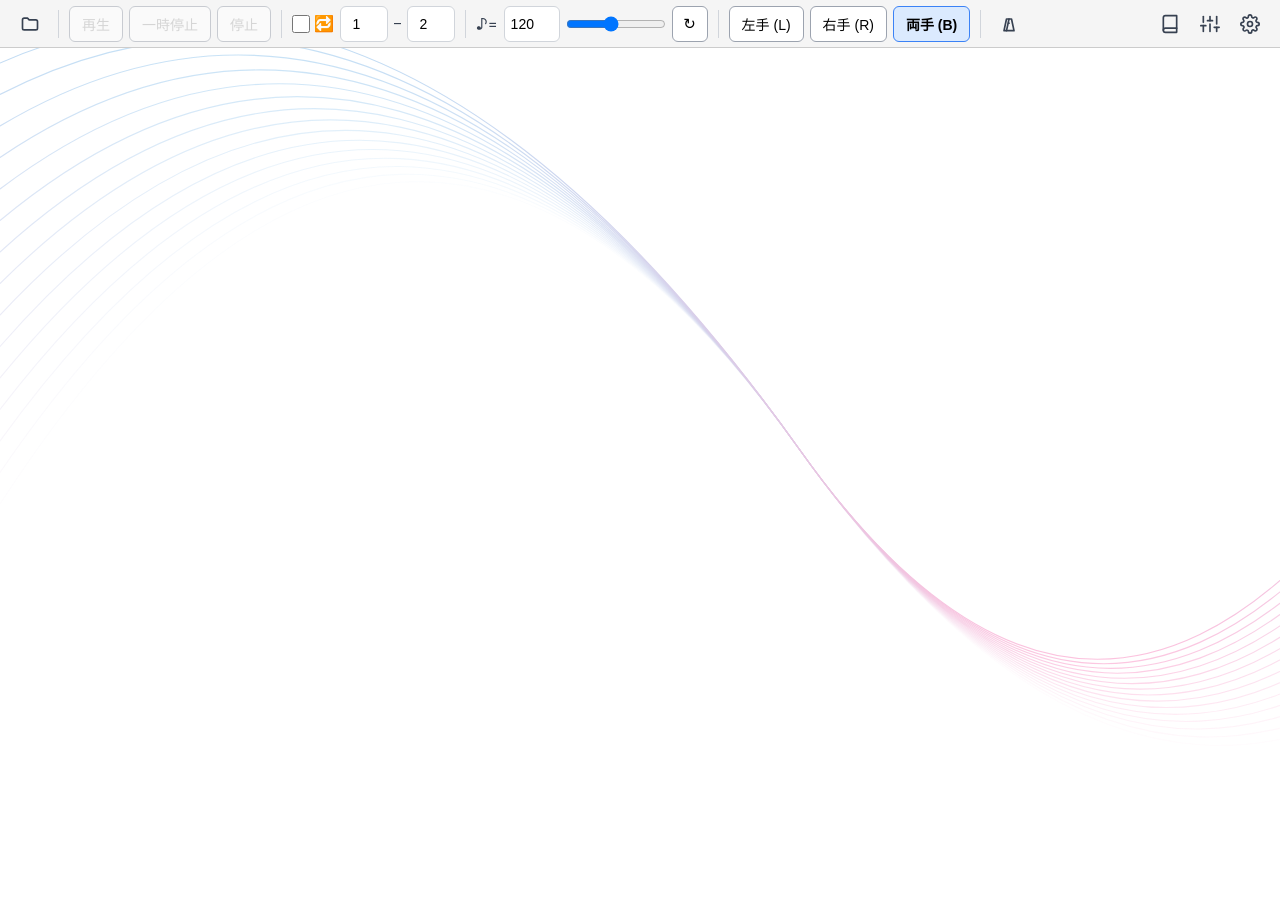
Header › QuickPanel (REQ-012-002/003) › closes the QuickPanel when the toggle button is clicked again
The image size is (1280, 900).
Step 1. Click the button with test id "quick-panel-toggle" → click(1210, 24), box [1192,6,1228,42]
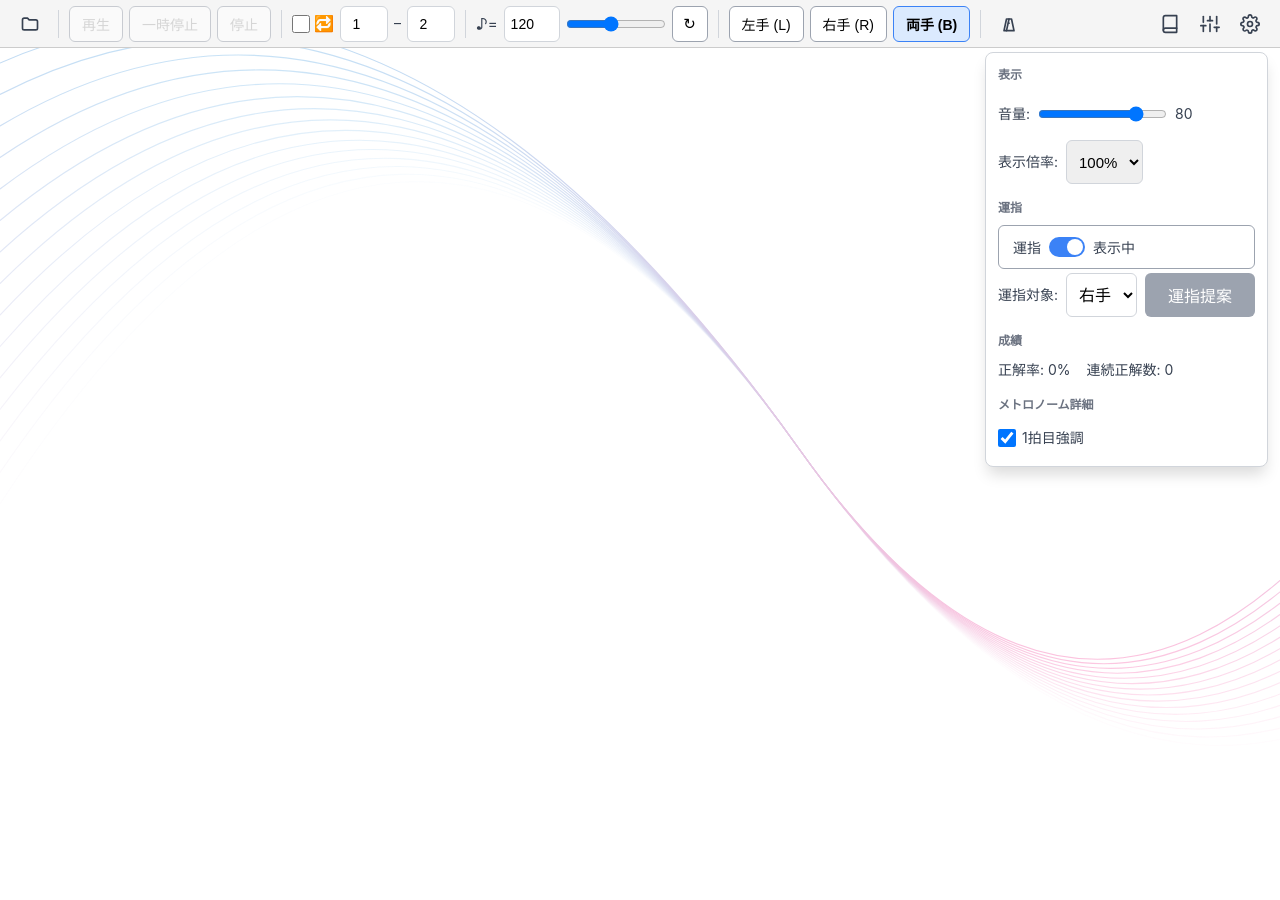
Check: the element with test id "quick-panel" is shown, box [998,65,1255,454]
Step 2. Click the button with test id "quick-panel-toggle" → click(1210, 24), box [1192,6,1228,42]
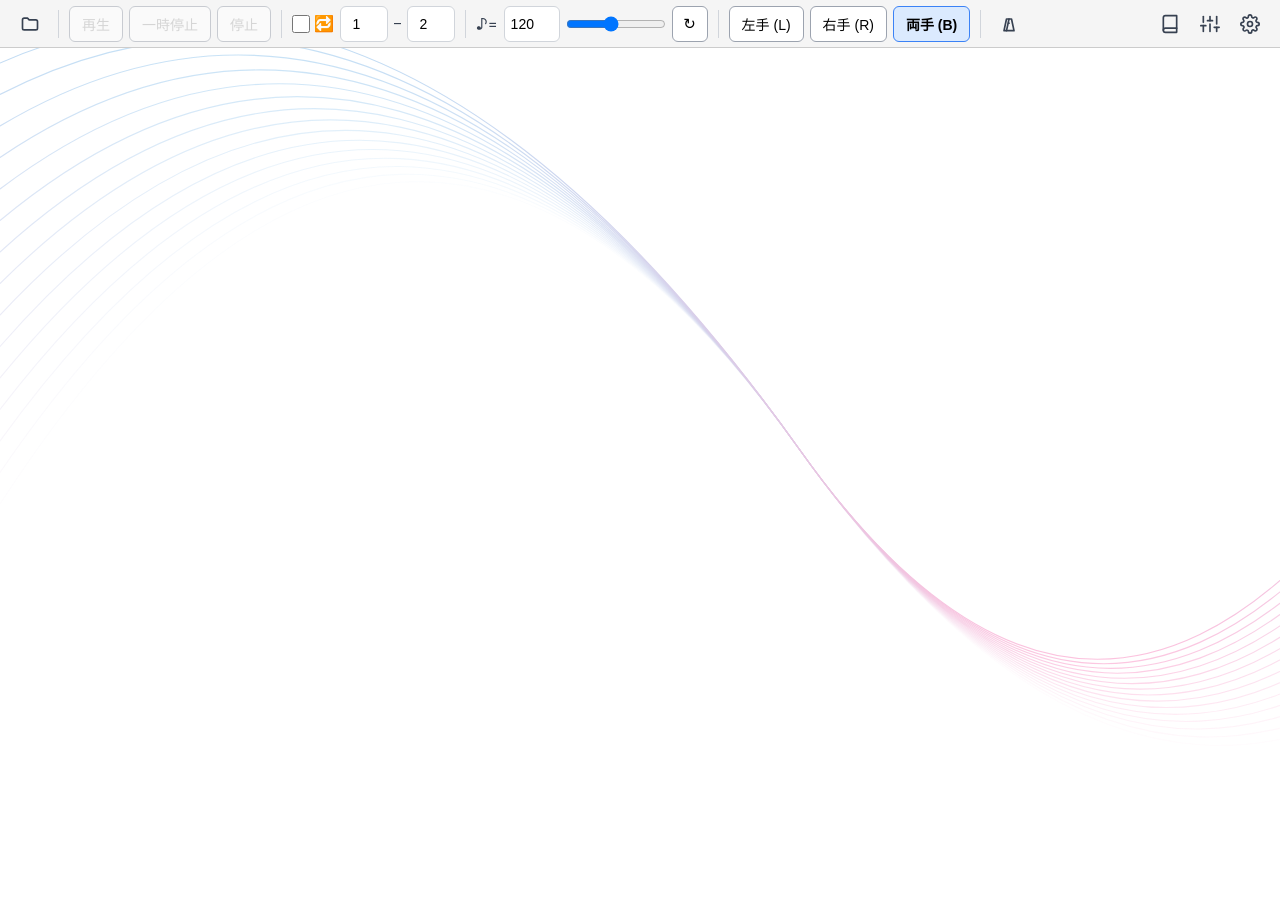
Check: the element with test id "quick-panel" is gone
